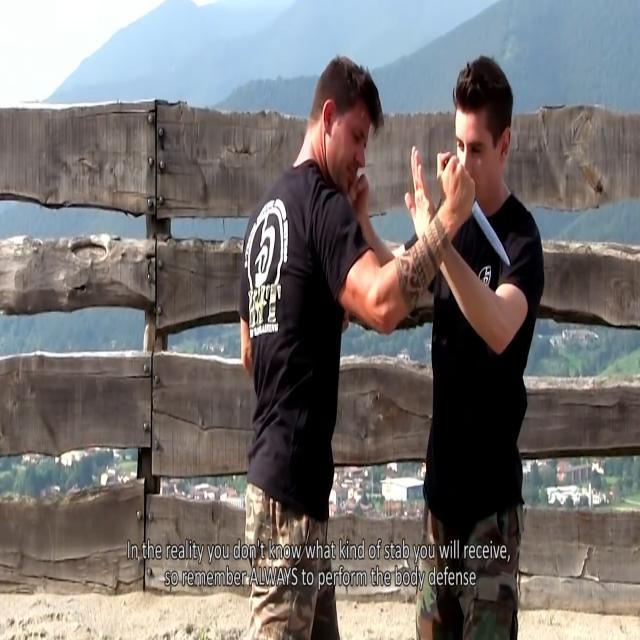knife: (472, 200, 516, 270)
